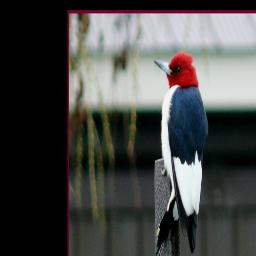Woodpecker: (153, 45, 209, 256)
